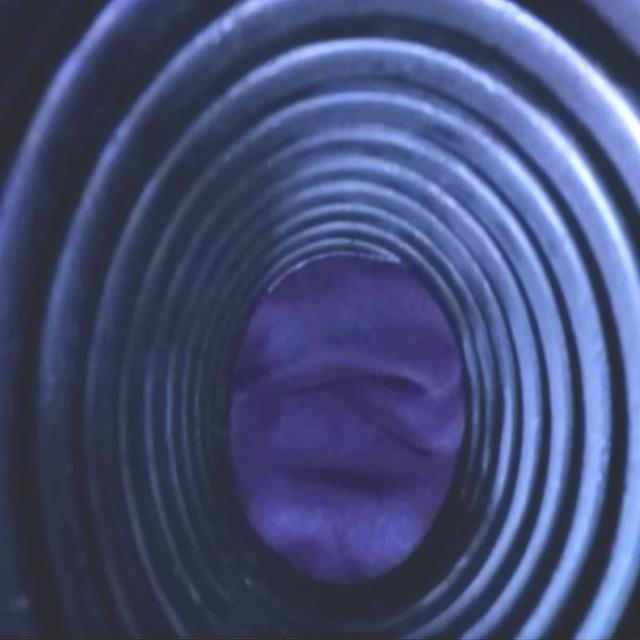block: (230, 260, 465, 586)
